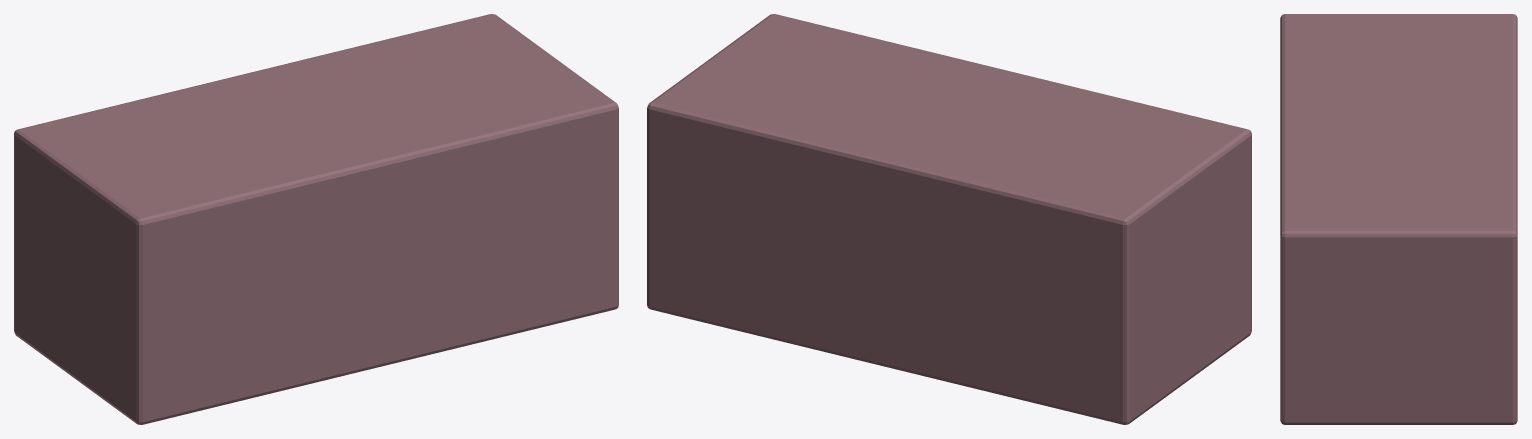
File: SM_Schlachthof_Trough.fbx
3 views of the same model, side by side, from view 1: azimuth 30°, elevation 25°; view 2: azimuth 150°, elevation 25°; view 3: azimuth 270°, elevation 25° (orthographic). The views are drawn at different scales.
Visible parts, largest first — view 1: SM_Schlachthof_Trough; view 2: SM_Schlachthof_Trough; view 3: SM_Schlachthof_Trough.
Boxes of the visible parts, box(x1,y1,x2,y2) form: SM_Schlachthof_Trough: box(14, 14, 618, 424); SM_Schlachthof_Trough: box(647, 14, 1251, 424); SM_Schlachthof_Trough: box(1280, 14, 1517, 424).
Size of the model in its own units: 2.2 by 0.9 by 1.
